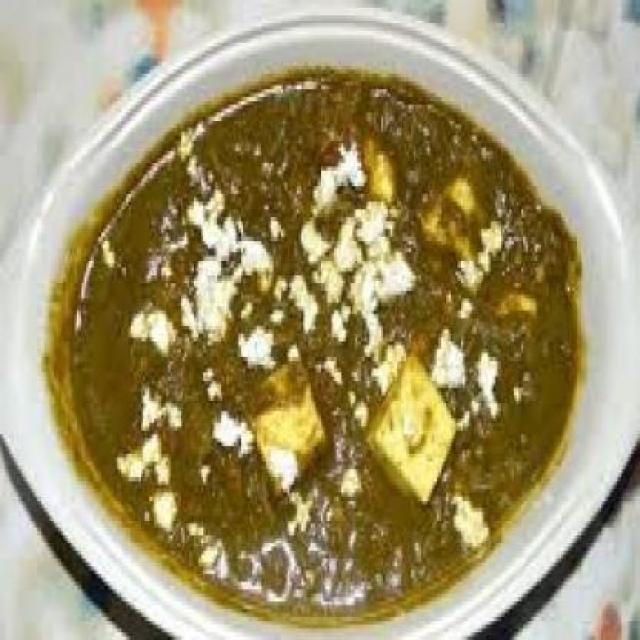palak_paneer: (71, 71, 580, 617)
